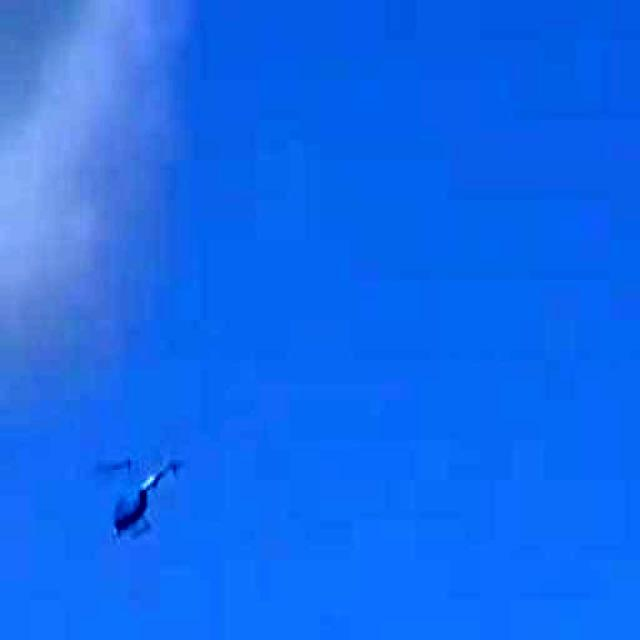drone: (66, 414, 206, 566)
